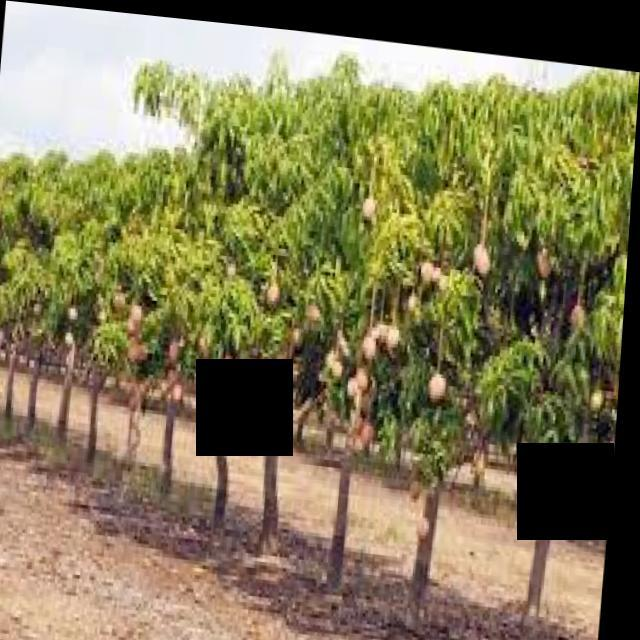Tree: (475, 62, 640, 640), (278, 27, 399, 626), (379, 70, 501, 637), (221, 83, 337, 593), (150, 128, 237, 555), (119, 100, 173, 499), (24, 147, 85, 465), (71, 177, 126, 488), (1, 97, 32, 452)
